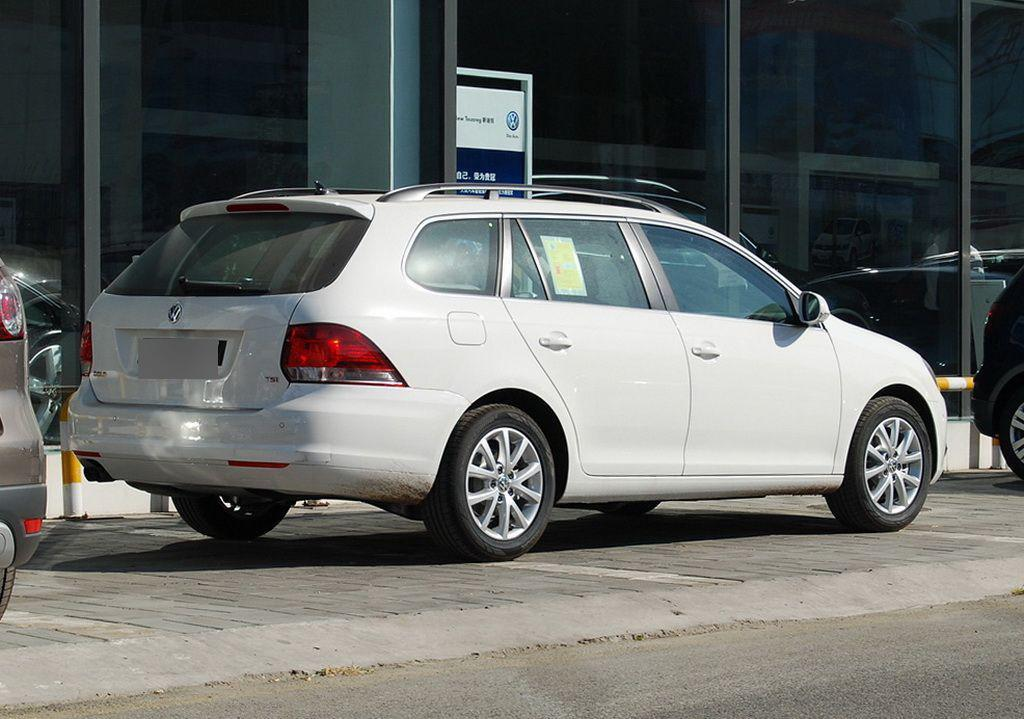Wagon: (64, 180, 948, 559)
